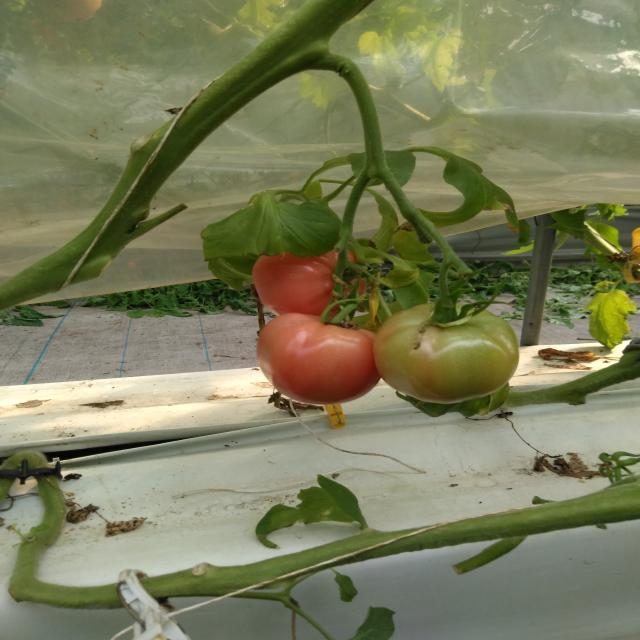n-half-riped: (372, 302, 518, 404)
n-riped: (256, 313, 382, 405), (252, 246, 366, 320)
